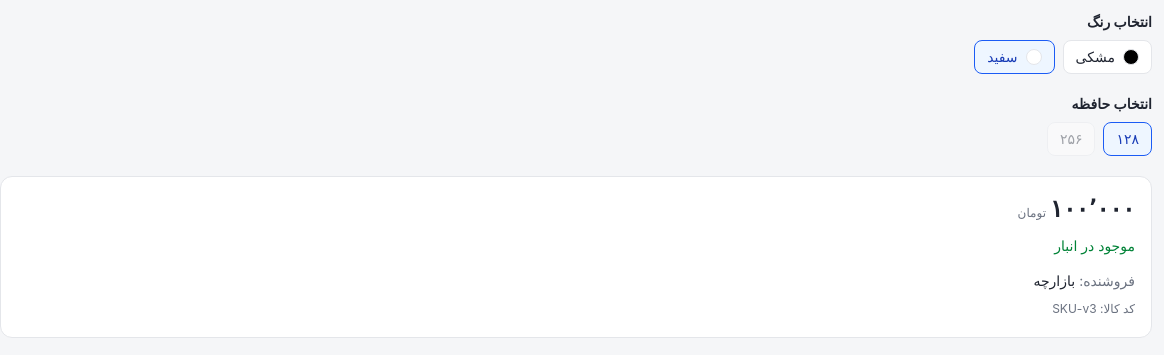
Test: VariantSelector › starts on the cheapest available variant and switches on selection
Expected: the text "SKU-v3" is shown, [1052,301,1097,316]
Click the button "مشکی" at coordinates (1107, 57), box [1063,40,1152,74]
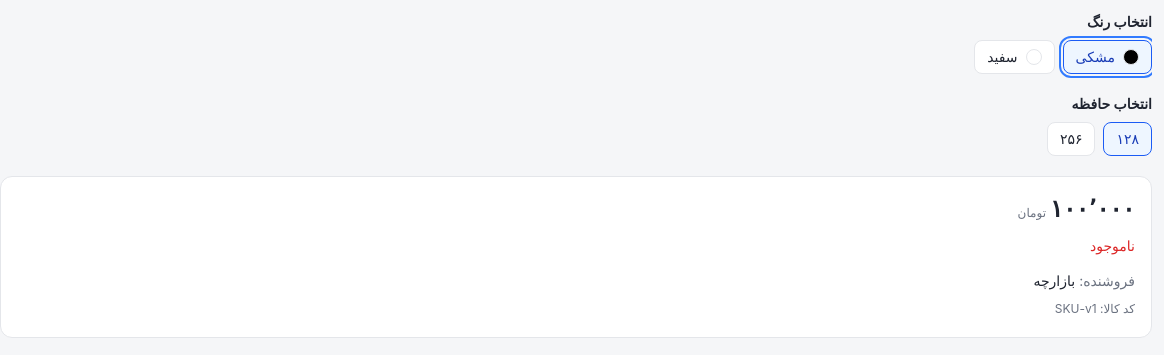
Result: the text "SKU-v1" is shown at [1055,301,1096,316]
Result: the text "ناموجود" is shown at [1090,237,1135,254]
Click the button "۲۵۶" at coordinates (1071, 139), box [1047,122,1096,156]
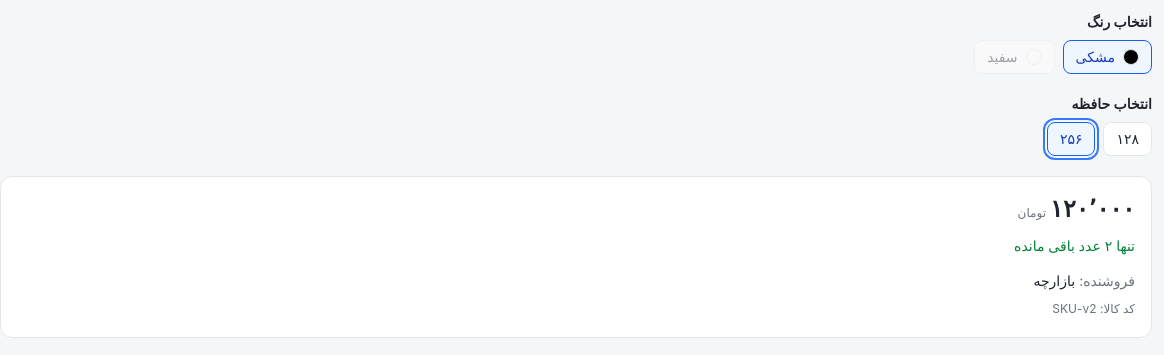
Result: the text "SKU-v2" is shown at [1052,301,1097,316]
Result: the text "تنها ۲ عدد باقی مانده" is shown at [1014,237,1135,254]
